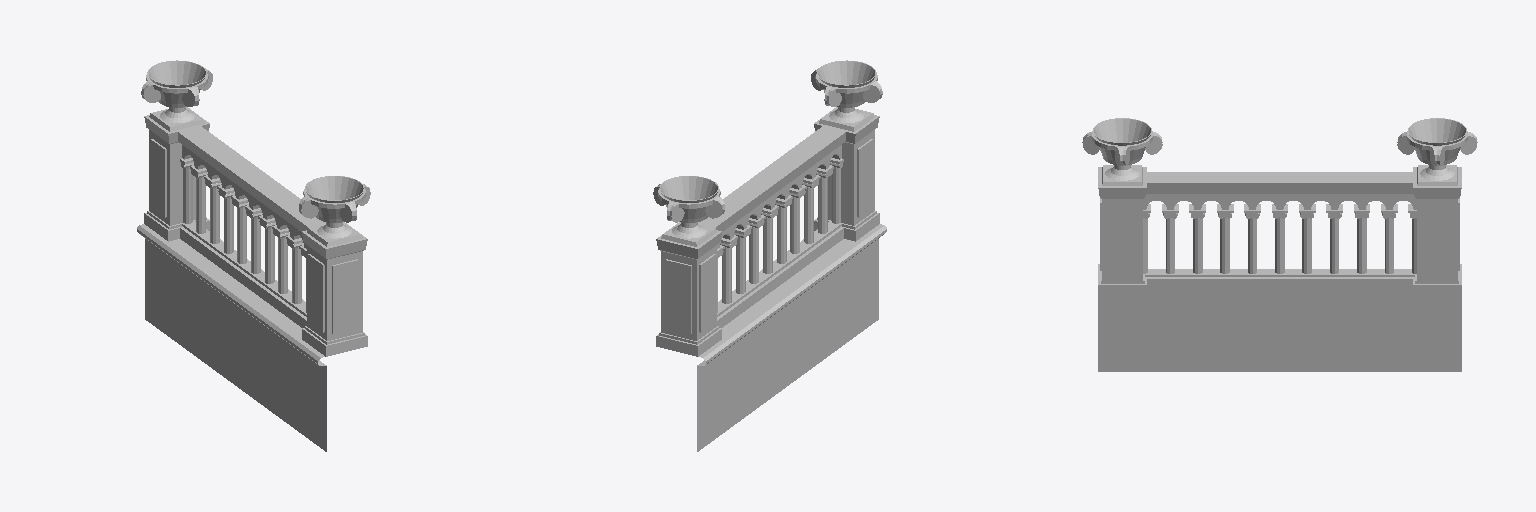
The model's file is railing.obj.
3 renders of one model, left to right at view 1: azimuth 30°, elevation 25°; view 2: azimuth 150°, elevation 25°; view 3: azimuth 270°, elevation 25°, orthographic.
Parts seen in each view (by area): view 1: railing_low; view 2: railing_low; view 3: railing_low.
Part boxes in pixels (bbox=[...]): railing_low: bbox=[137, 60, 370, 451]; railing_low: bbox=[653, 60, 886, 451]; railing_low: bbox=[1082, 118, 1477, 371].
Bounding box in the file's own units: 69.75 × 240 × 344.